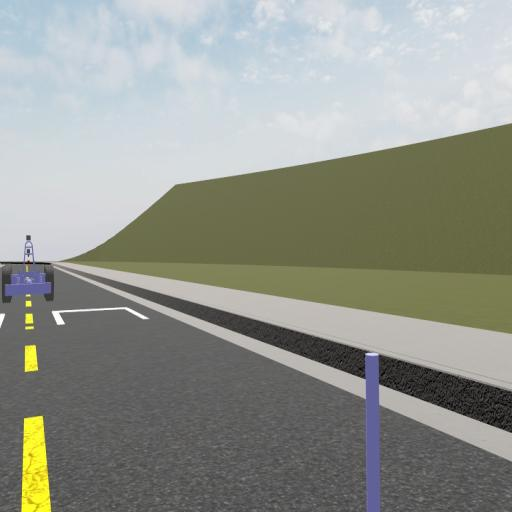ERP-42: (0, 237, 53, 302)
